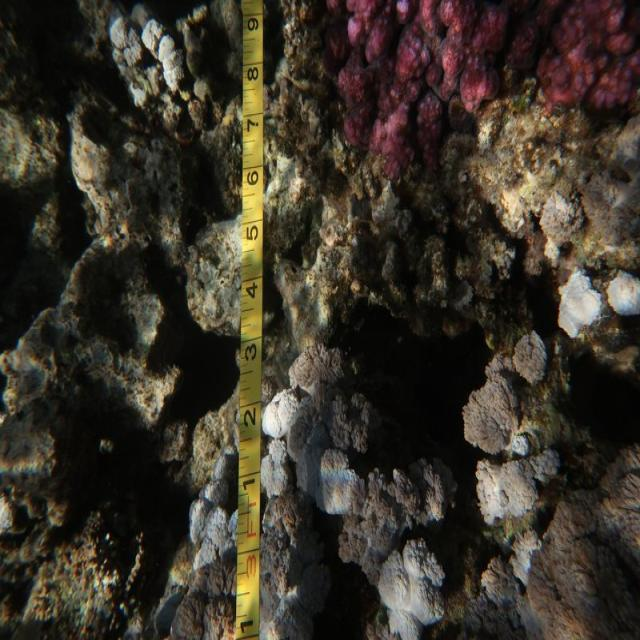Healthy Coral: (316, 7, 640, 180)
